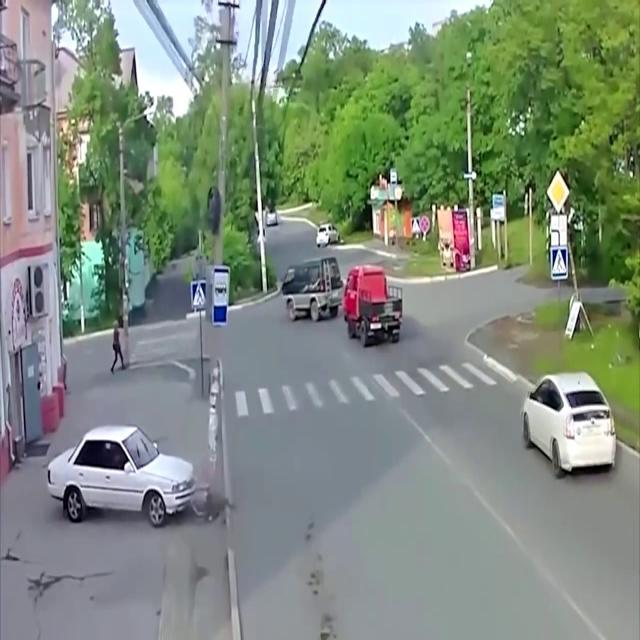normal: (261, 165, 474, 373), (496, 361, 639, 495)
single accident: (35, 396, 259, 540)
